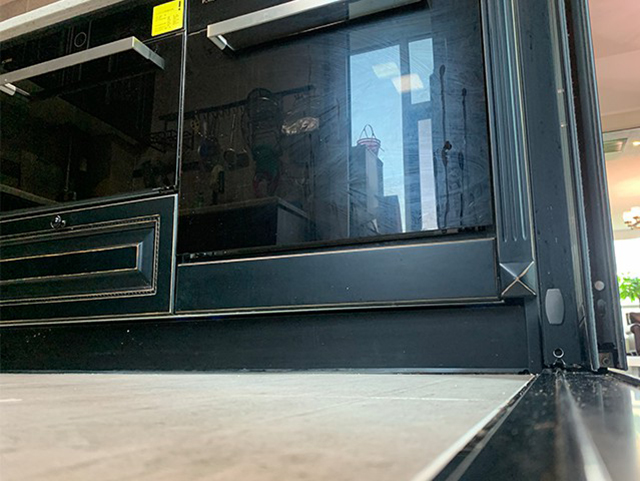cabinet: (184, 1, 525, 375), (1, 1, 189, 376)
